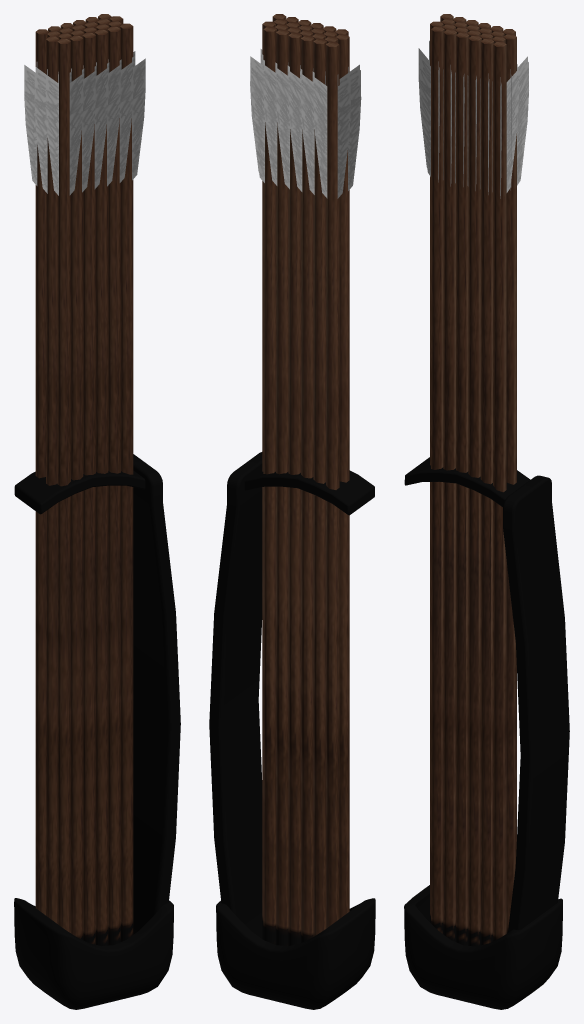
File: Quiver.fbx
3 renders of one model, left to right at view 1: azimuth 30°, elevation 25°; view 2: azimuth 150°, elevation 25°; view 3: azimuth 330°, elevation 25°, orthographic.
Visible parts, largest first — view 1: Quiver; view 2: Quiver; view 3: Quiver.
Boxes of the visible parts, <box> form: Quiver: <box>14,14,180,1009</box>; Quiver: <box>209,14,375,1009</box>; Quiver: <box>404,14,569,1009</box>.
Size of the model in its own units: 15.13 by 103 by 10.01.
Materials: 1 (1 with a texture image).
